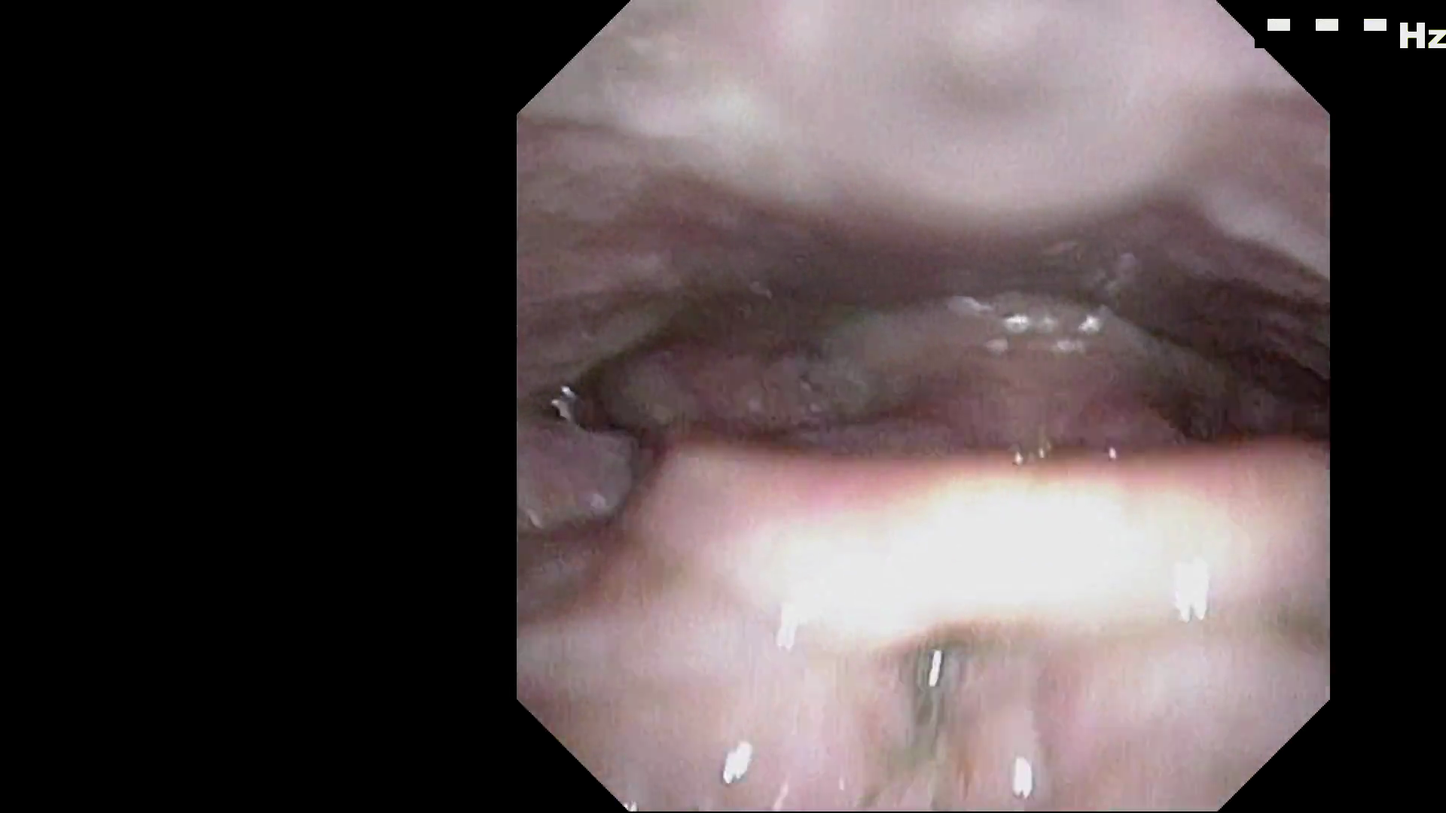epiglottis: (664, 395, 1300, 677), (699, 369, 1249, 536)
